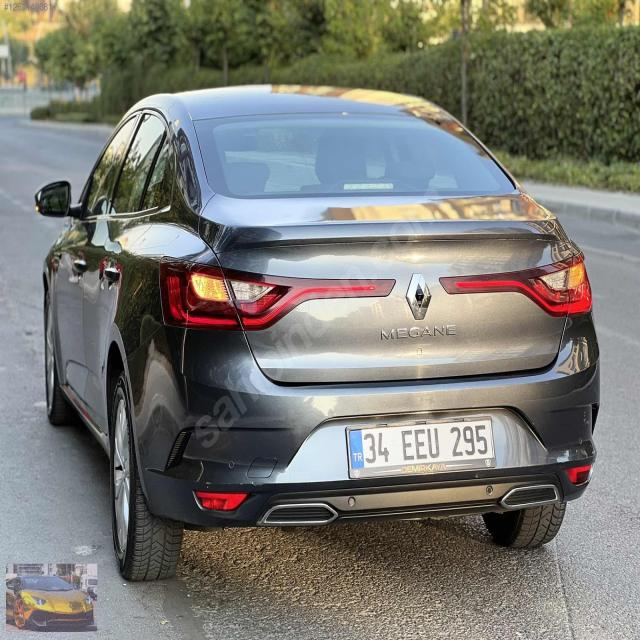renault: (403, 269, 434, 322)
